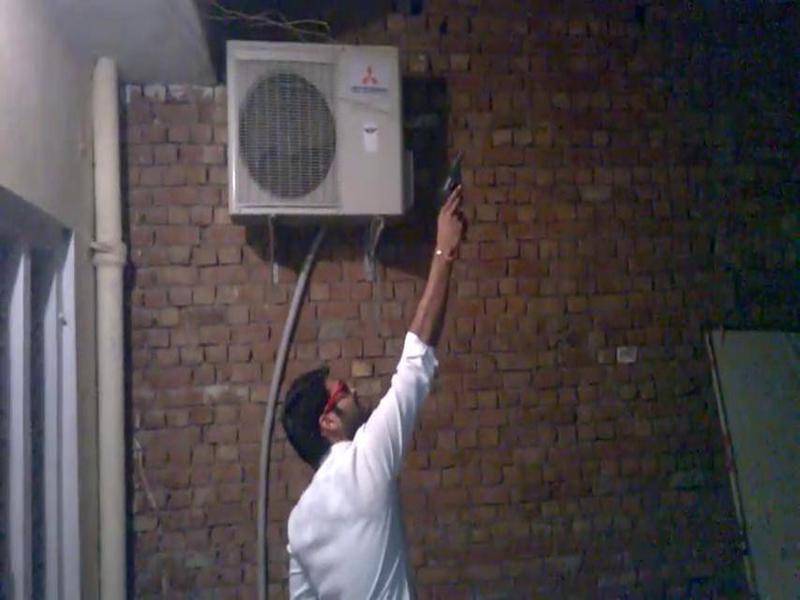Revolver: (432, 139, 494, 250)
